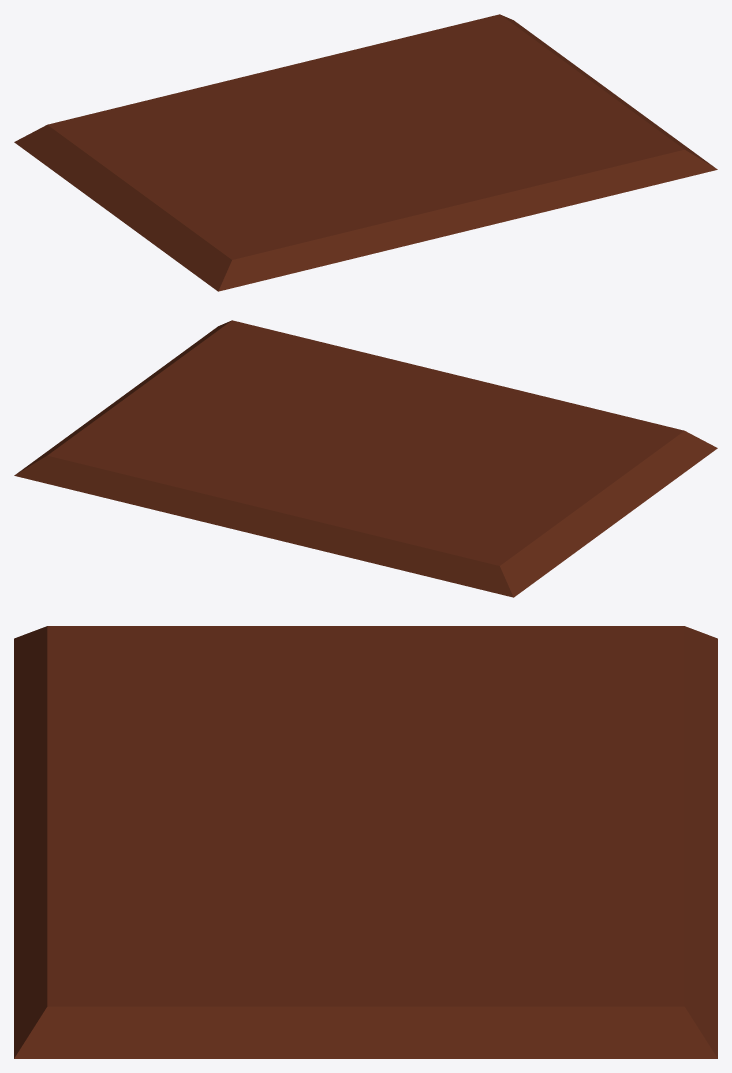
File: Marco.fbx
The picture shows the model from 3 angles, top to bottom: view 1: azimuth 30°, elevation 25°; view 2: azimuth 150°, elevation 25°; view 3: azimuth 270°, elevation 25°; orthographic projection. The views are drawn at different scales.
Parts seen in each view (by area): view 1: Cube; view 2: Cube; view 3: Cube.
Boxes of the visible parts, x1=… form: Cube: x1=14, y1=14, x2=717, y2=291; Cube: x1=14, y1=320, x2=717, y2=597; Cube: x1=14, y1=626, x2=717, y2=1058.
Size of the model in its own units: 232 by 8.34 by 164.
